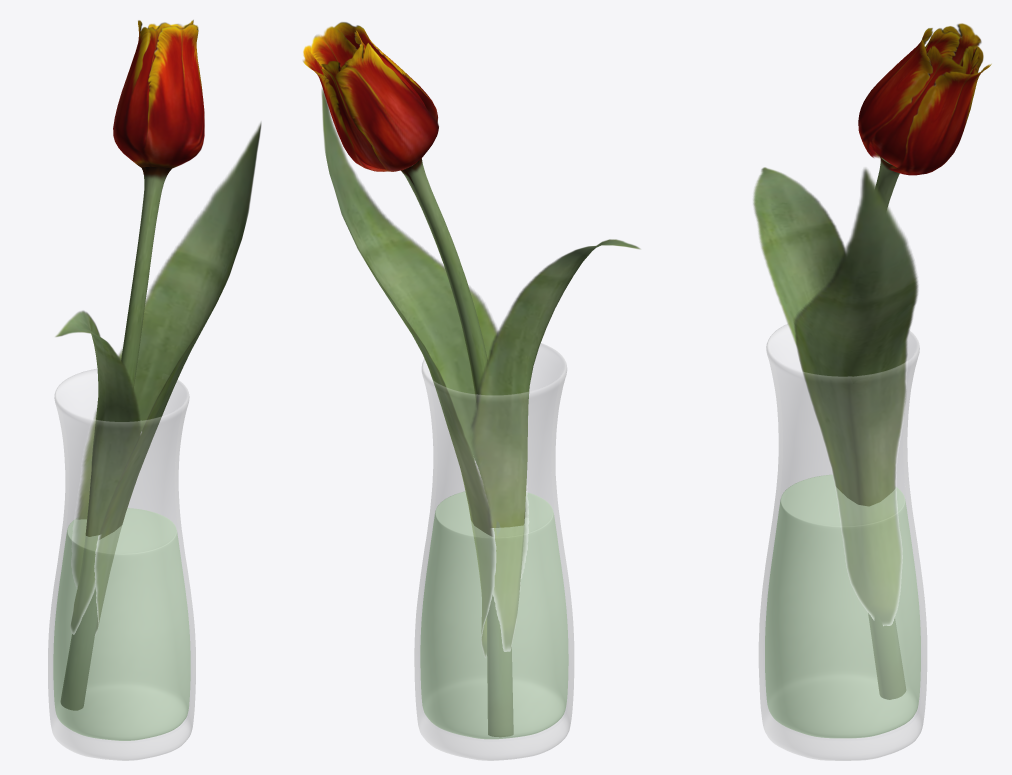
The model's file is tulip.gltf.
3 views of the same model, side by side, from view 1: azimuth 30°, elevation 25°; view 2: azimuth 150°, elevation 25°; view 3: azimuth 270°, elevation 25° (orthographic). The views are drawn at different scales.
Parts seen in each view (by area): view 1: Object_3, Object_4, Object_5; view 2: Object_3, Object_4, Object_5; view 3: Object_3, Object_4, Object_5.
Boxes of the visible parts, x1,y1,x2,y2 form: Object_3: [48, 369, 195, 760]; Object_4: [55, 20, 261, 710]; Object_5: [53, 508, 190, 740]; Object_3: [414, 343, 573, 760]; Object_4: [303, 22, 640, 736]; Object_5: [420, 491, 568, 739]; Object_3: [759, 324, 926, 760]; Object_4: [753, 23, 991, 699]; Object_5: [765, 474, 920, 738].
Size of the model in its own units: 12.4 by 28.65 by 10.25.
4 materials, 1 textured.
